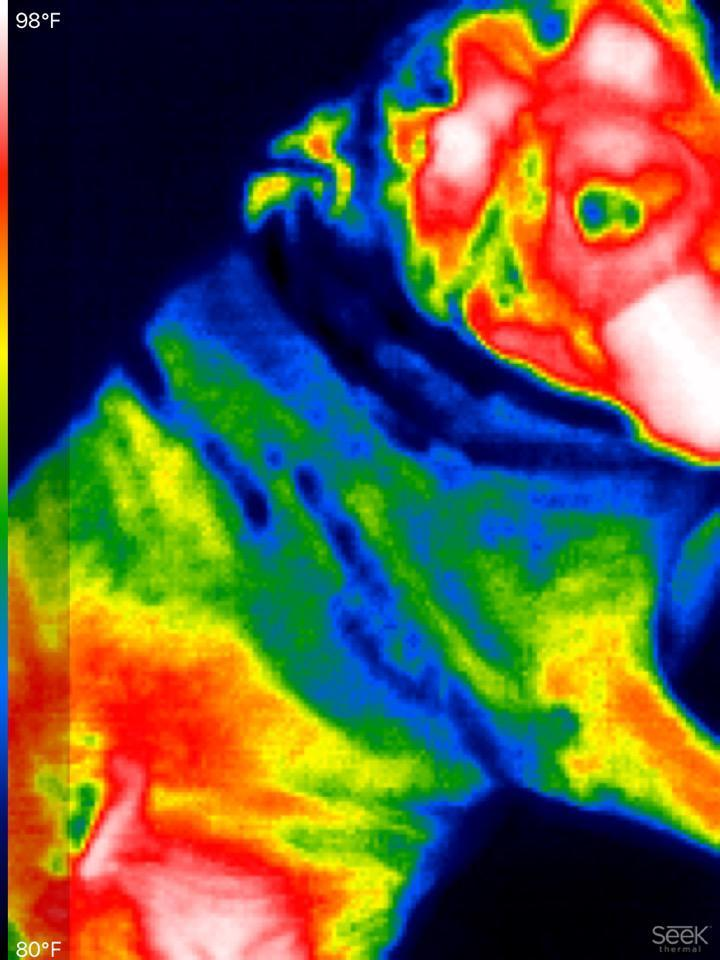dog: (24, 17, 716, 957)
